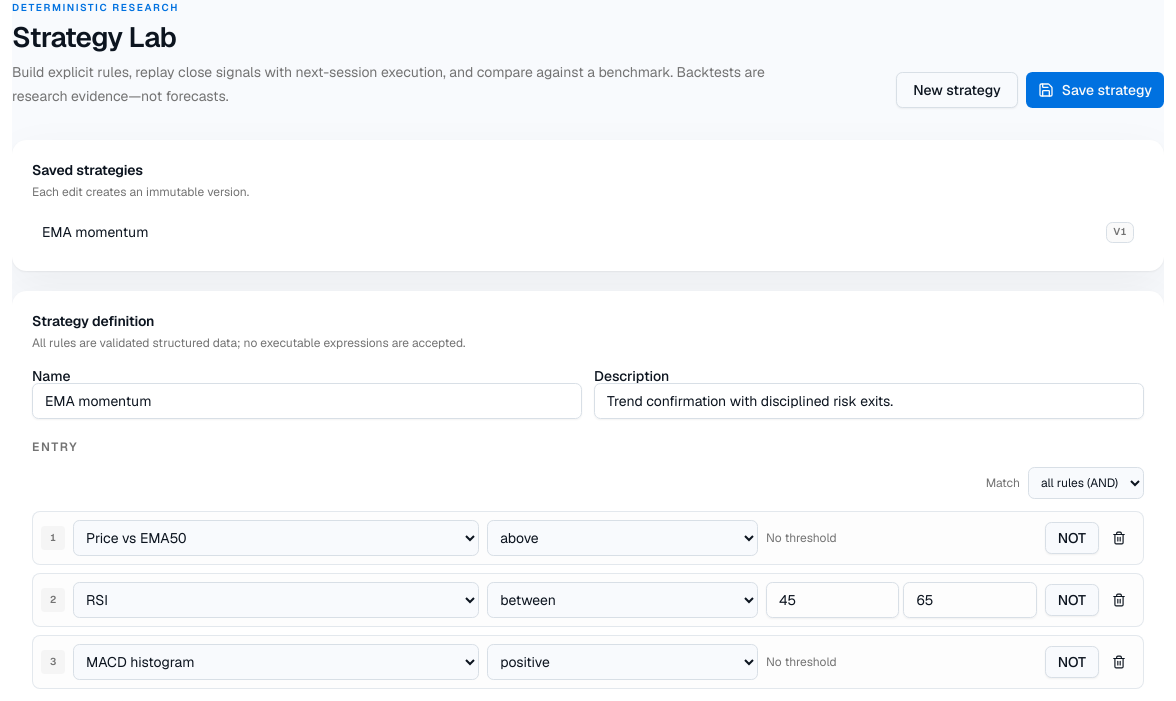
Test case: StrategiesPage › renders explainable out-of-sample and sensitivity evidence
What coordinates should you click on to do the following:
click the button "EMA momentum v1"
I would click on:
 (95, 232)
Its box is [32, 214, 1144, 251].
(page scrolled)
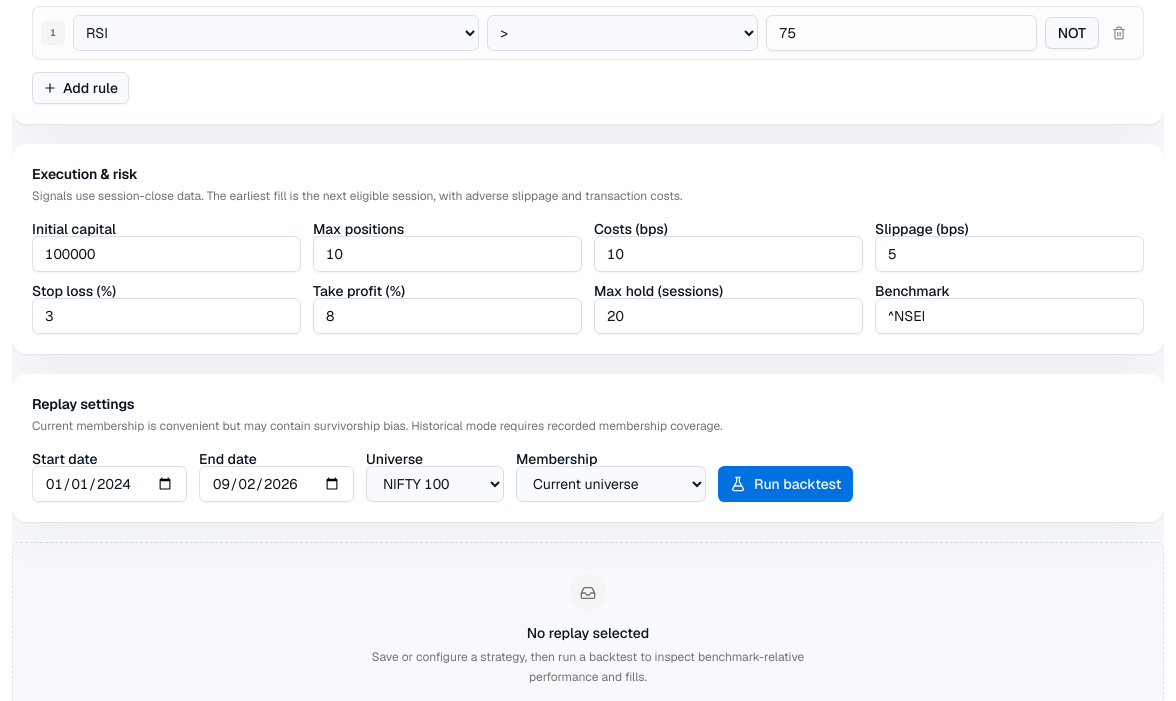
What coordinates should you click on to do the following:
click the button "Run backtest"
I would click on:
 (786, 484)
Its box is [718, 466, 854, 502].
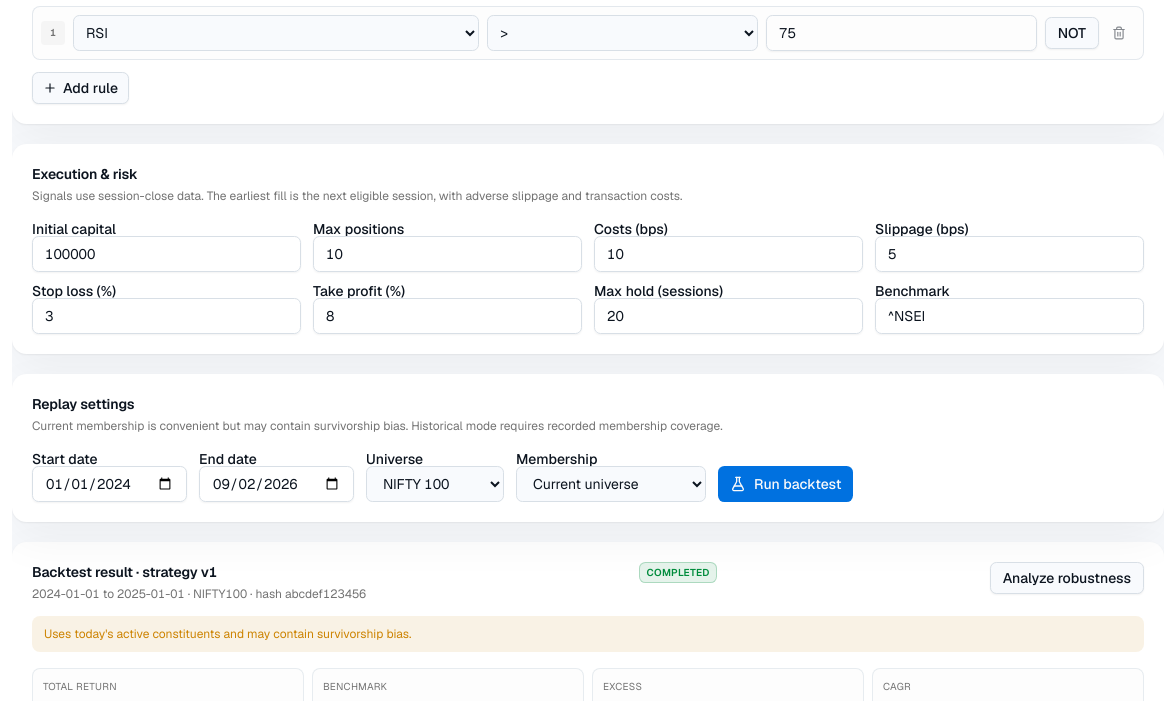
What coordinates should you click on to do the following:
click the button "Analyze robustness"
I would click on:
 (1067, 578)
Its box is [990, 562, 1144, 594].
(page scrolled)
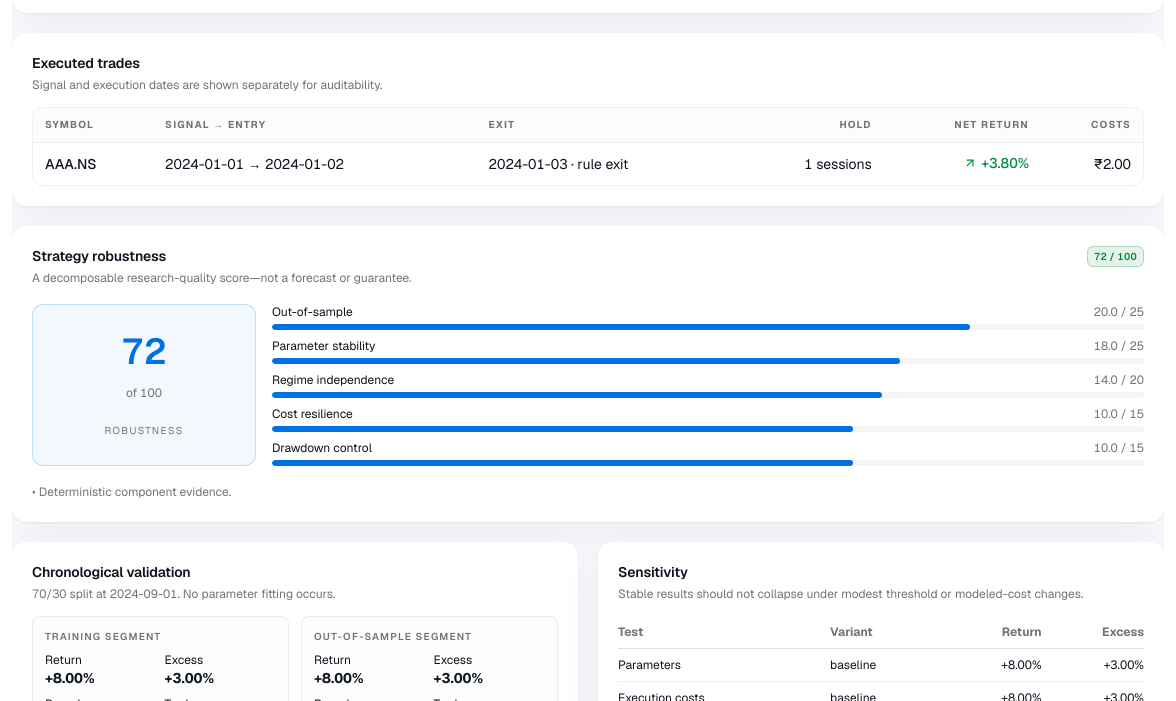
Check: the text "72" is shown, box [122, 332, 166, 372]
Check: the text "Out-of-sample segment" is shown, box [314, 630, 472, 643]
Check: the text "Parameters" is shown, box [618, 648, 830, 681]
